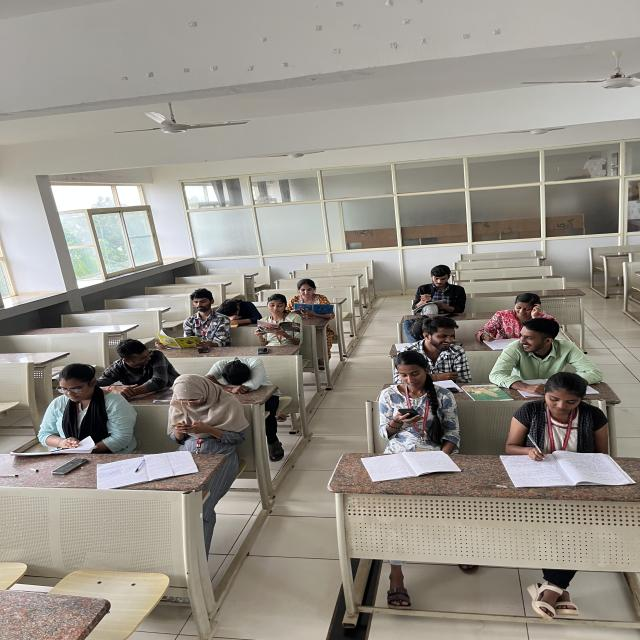Reading: (16, 361, 136, 460), (149, 287, 229, 352), (255, 296, 302, 344), (287, 276, 336, 322)
Sleeping: (204, 357, 272, 392), (215, 296, 260, 325)
Using Phone: (361, 347, 459, 446), (159, 374, 249, 453)
Writing: (490, 368, 636, 487), (476, 290, 564, 344), (406, 261, 471, 315)
